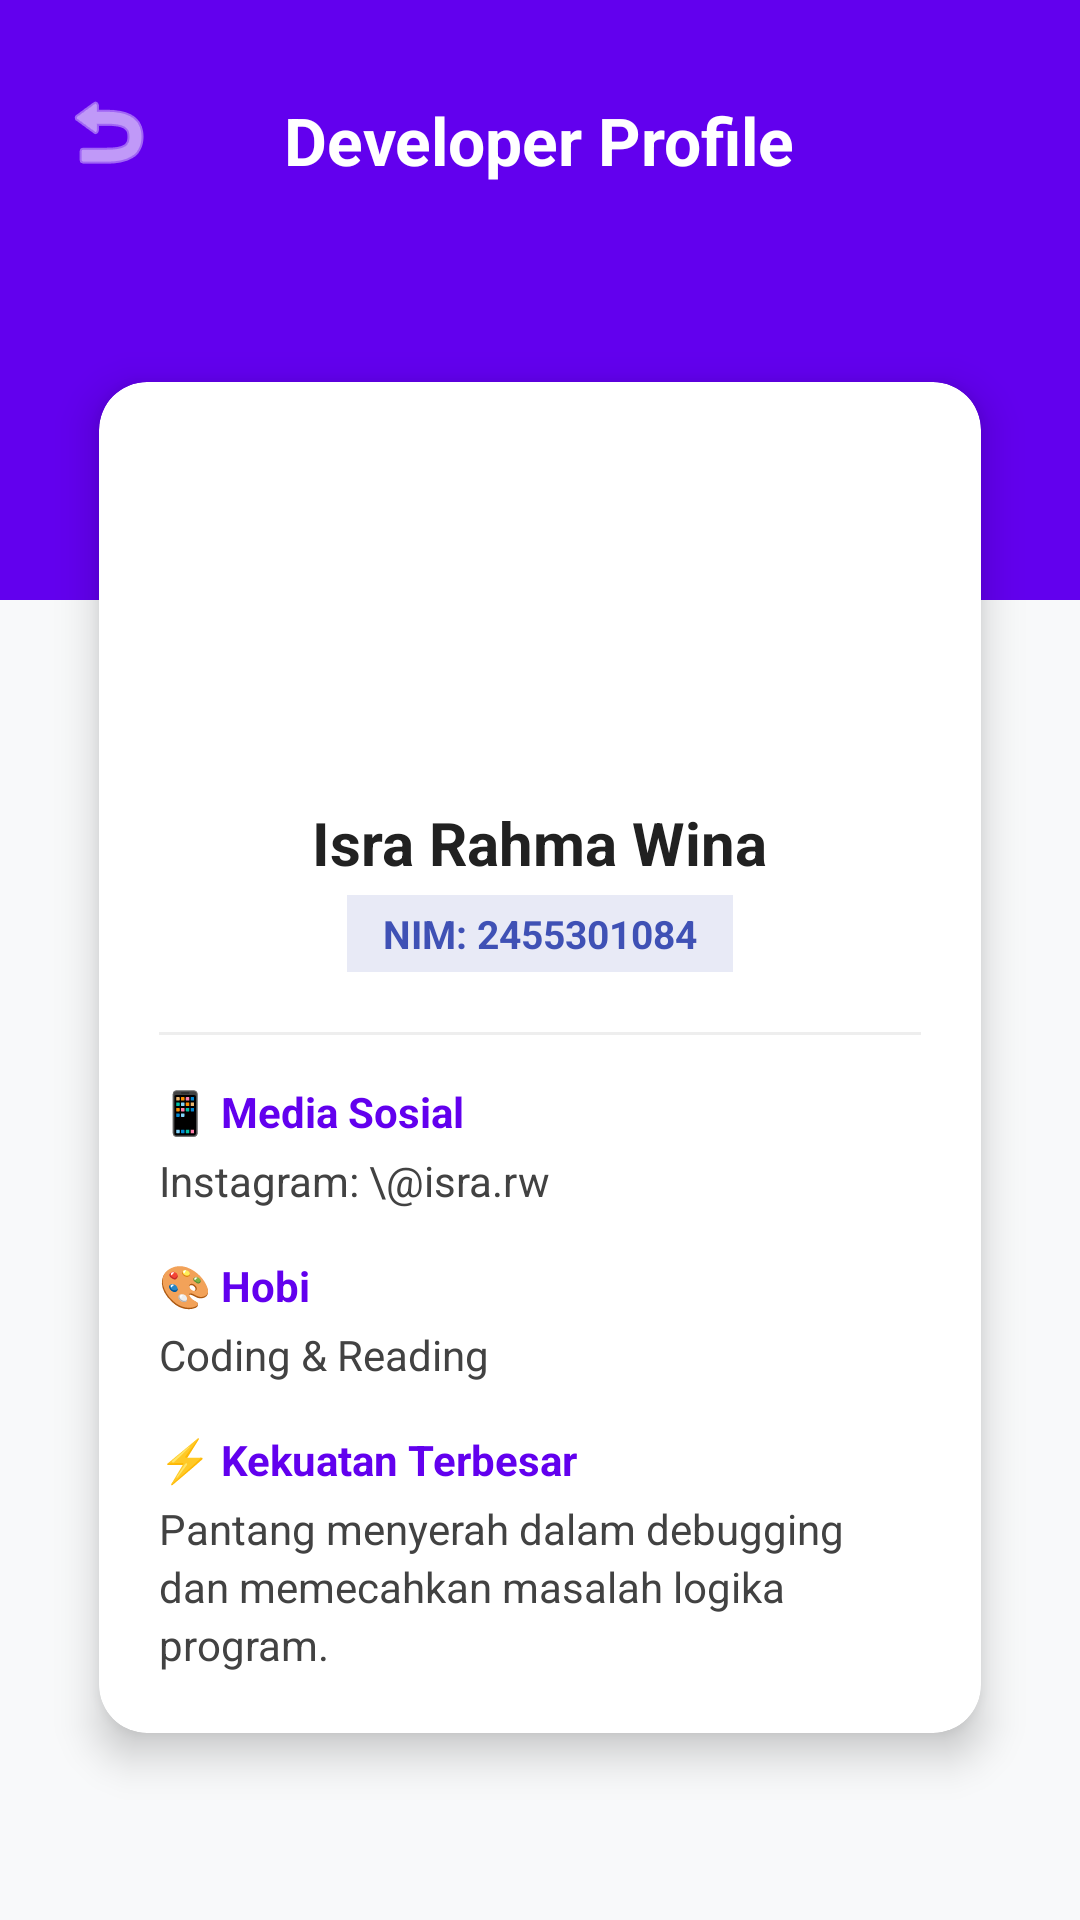

Icons on this 1080w x 1920h Android screen, each with its box as (x1, y1, x2, y2):
Kembali: (75, 101, 144, 164)
